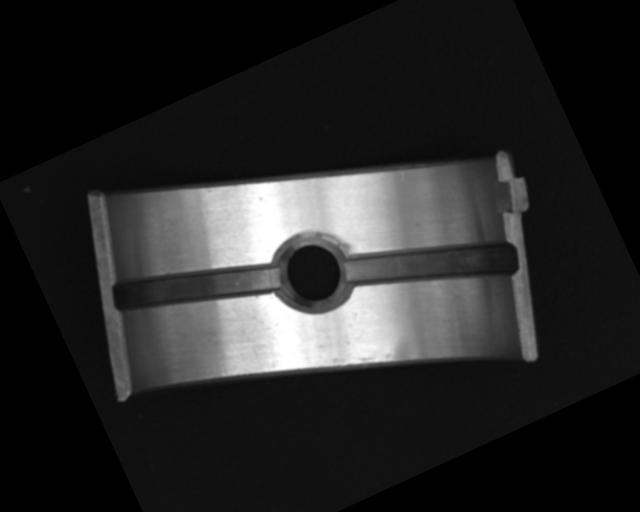gap: (340, 194, 518, 335), (105, 220, 282, 354)
hole: (259, 218, 364, 327)
